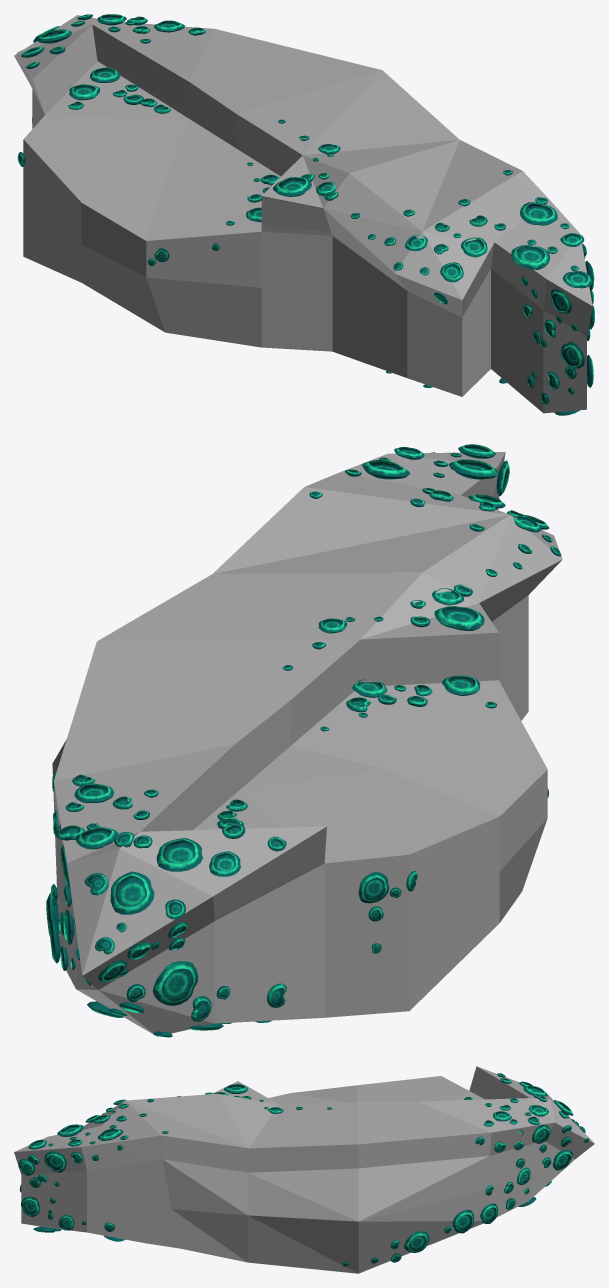
The model's file is stein3shrooms.fbx.
3 views of the same model, one above another, from view 1: azimuth 30°, elevation 25°; view 2: azimuth 150°, elevation 25°; view 3: azimuth 270°, elevation 25° (orthographic). The views are drawn at different scales.
Parts seen in each view (by area): view 1: stein3, shrooms3; view 2: stein3, shrooms3; view 3: stein3, shrooms3.
Part boxes in pixels (x1=…): stein3: x1=14, y1=15, x2=592, y2=413; shrooms3: x1=17, y1=14, x2=594, y2=415; stein3: x1=52, y1=452, x2=562, y2=1036; shrooms3: x1=46, y1=444, x2=561, y2=1037; stein3: x1=14, y1=1066, x2=594, y2=1273; shrooms3: x1=18, y1=1073, x2=589, y2=1266.
Size of the model in its own units: 823 by 482 by 1857.
